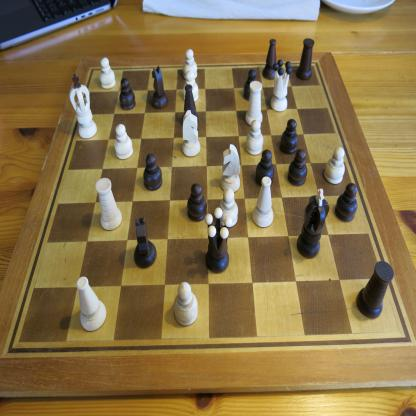black-bishop: (181, 84, 199, 127), (262, 38, 278, 80)
black-king: (296, 188, 330, 260)
black-knight: (133, 216, 157, 269), (151, 65, 169, 110)
black-pawn: (335, 182, 358, 223), (186, 182, 208, 222), (255, 148, 275, 186), (288, 149, 308, 187), (143, 153, 163, 191), (280, 118, 298, 154), (119, 78, 137, 111), (243, 68, 257, 102)
black-queen: (204, 207, 233, 274)
black-rook: (356, 259, 394, 320), (296, 38, 315, 80)
white-bishop: (76, 276, 107, 332), (252, 176, 274, 228)
white-king: (69, 74, 98, 139)
white-knight: (220, 143, 241, 193), (181, 109, 201, 158)
white-pawn: (173, 280, 198, 327), (324, 146, 345, 185), (218, 188, 239, 227), (114, 124, 134, 160), (245, 119, 264, 156), (99, 57, 116, 89), (182, 48, 198, 80), (183, 70, 199, 102)
white-queen: (269, 59, 293, 112)
white-rook: (95, 177, 122, 231), (245, 80, 263, 126)
